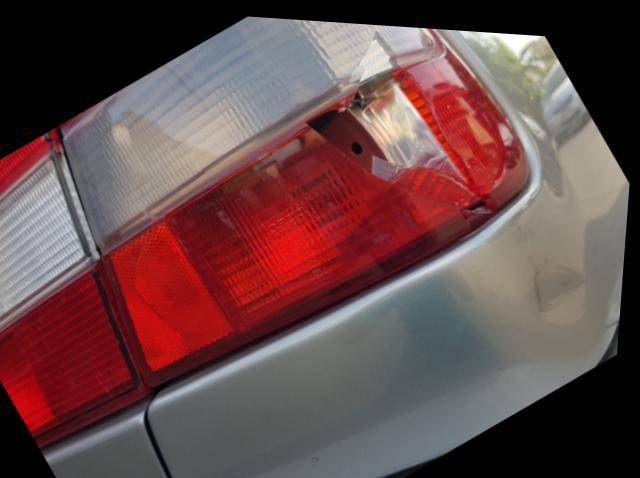dent: (535, 251, 590, 316)
lamp broken: (58, 13, 531, 395)
